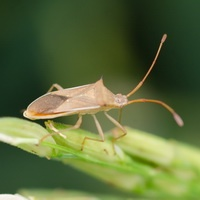insect: (23, 34, 183, 141)
